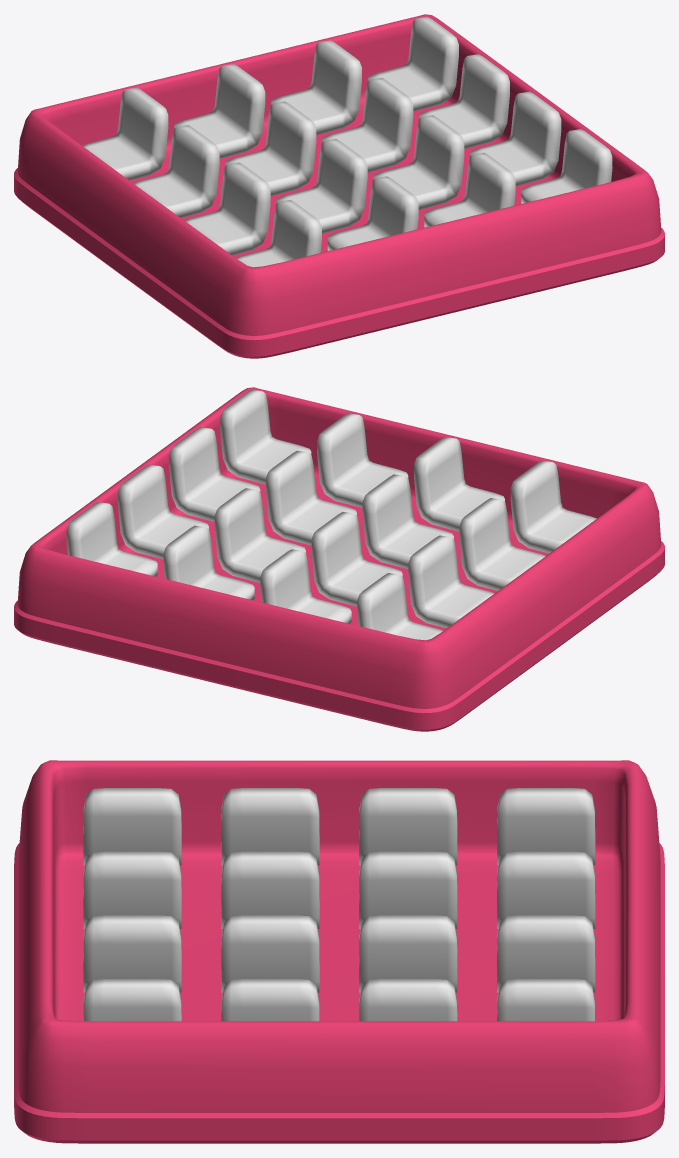
File: car_Vuong_T2.fbx
3 views of the same model, one above another, from view 1: azimuth 30°, elevation 25°; view 2: azimuth 150°, elevation 25°; view 3: azimuth 270°, elevation 25° (orthographic). The views are drawn at different scales.
Parts seen in each view (by area): view 1: Cube.122, Cube.123; view 2: Cube.122, Cube.123; view 3: Cube.122, Cube.123.
Boxes of the visible parts, x1,y1,x2,y2 form: Cube.122: (14,14,664,358); Cube.123: (82,16,612,267); Cube.122: (14,387,664,731); Cube.123: (66,389,596,640); Cube.122: (14,760,664,1143); Cube.123: (83,788,595,1021).
Bounding box in the file's own units: 380 × 83.45 × 364.
